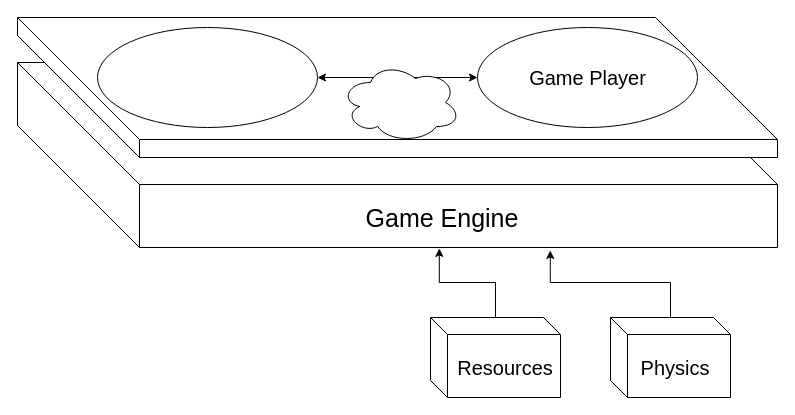
Some shapes in this 795 by 415 pixel diagram are drawn without their labels. Each missing label, with the box of its shape:
Authoring Environment: (96, 26, 318, 128)
Data: (340, 62, 460, 142)
